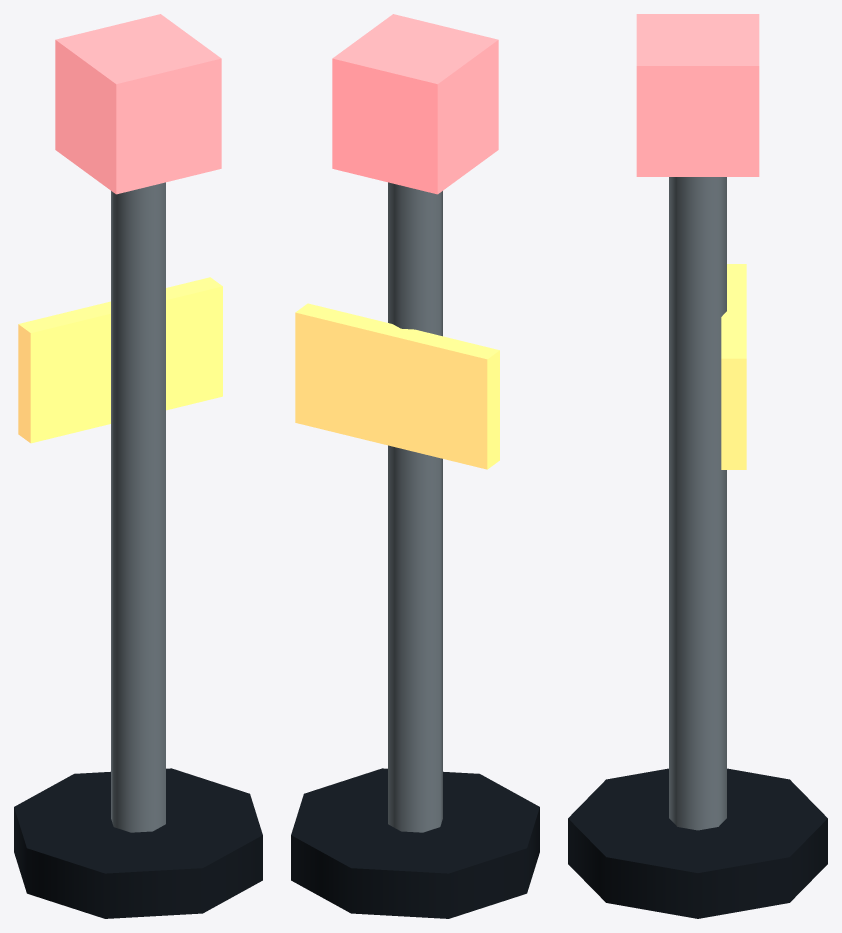
The model's file is np_z06_balise_finale.glb.
The picture shows the model from 3 angles, left to right: view 1: azimuth 30°, elevation 25°; view 2: azimuth 150°, elevation 25°; view 3: azimuth 270°, elevation 25°; orthographic projection.
Visible parts, largest first — view 1: Mat, Socle, Signal, Panneau; view 2: Mat, Socle, Panneau, Signal; view 3: Mat, Socle, Signal, Panneau.
Part boxes in pixels (<box>): Mat: <box>111,182,165,832</box>; Socle: <box>14,768,262,918</box>; Signal: <box>55,14,221,194</box>; Panneau: <box>18,277,222,443</box>; Mat: <box>388,182,442,832</box>; Socle: <box>291,768,539,918</box>; Panneau: <box>295,303,499,469</box>; Signal: <box>332,14,498,194</box>; Mat: <box>669,177,726,830</box>; Socle: <box>568,768,827,918</box>; Signal: <box>636,14,759,176</box>; Panneau: <box>721,264,746,469</box>.
Bounding box in the file's own units: 0.72 × 2.52 × 0.72.
